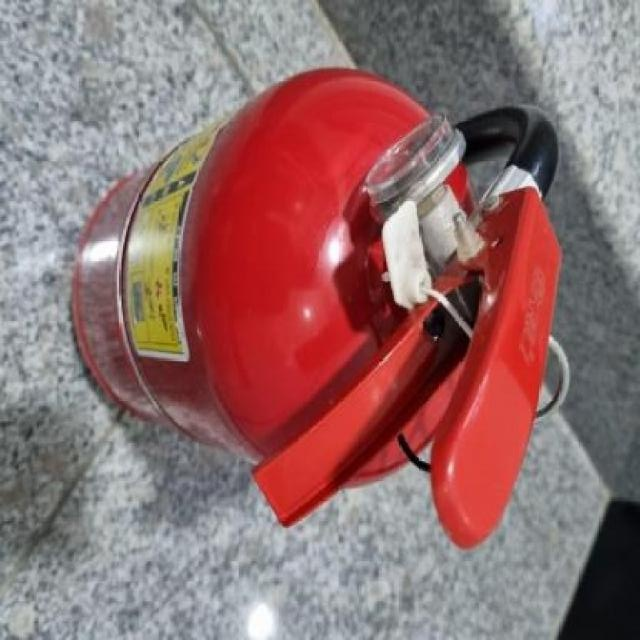fire extinguisher: (71, 67, 571, 551)
